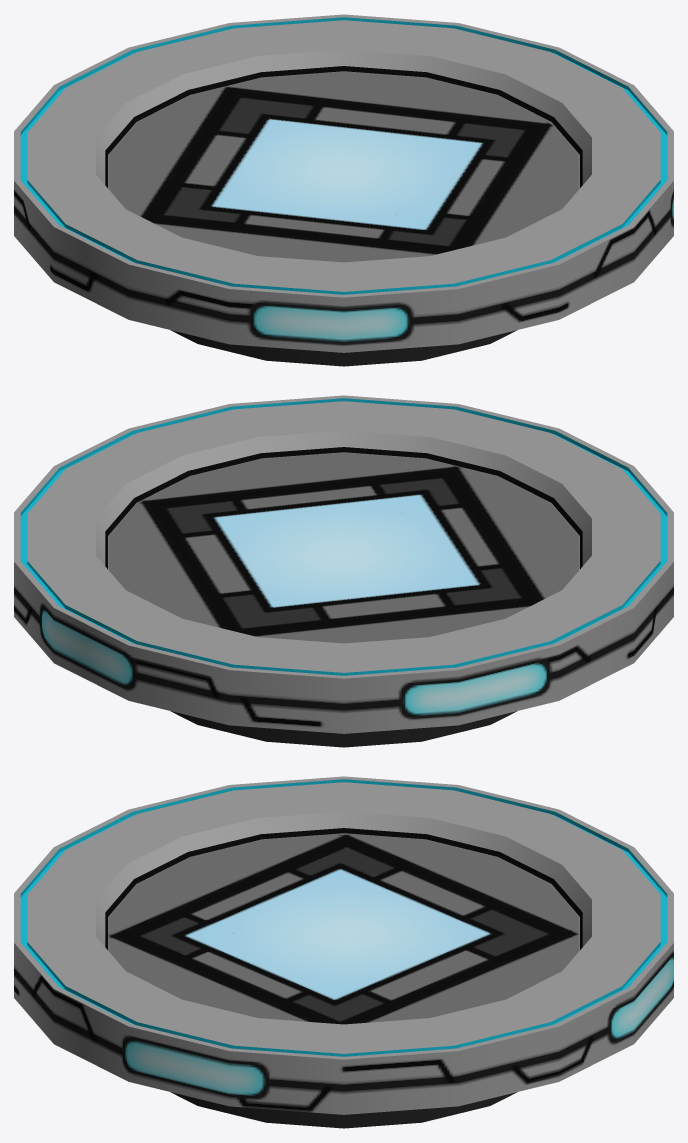
File: scaffold.fbx
3 views of the same model, one above another, from view 1: azimuth 30°, elevation 25°; view 2: azimuth 150°, elevation 25°; view 3: azimuth 270°, elevation 25° (orthographic).
Visible parts, largest first — view 1: Foundation, FoundationUnder; view 2: Foundation, FoundationUnder; view 3: Foundation, FoundationUnder.
Part boxes in pixels (left/top/right/bottom): Foundation: left=14, top=14, right=673, bottom=352; FoundationUnder: left=170, top=330, right=517, bottom=366; Foundation: left=14, top=395, right=673, bottom=733; FoundationUnder: left=170, top=711, right=517, bottom=747; Foundation: left=14, top=776, right=673, bottom=1114; FoundationUnder: left=170, top=1092, right=517, bottom=1128.
Size of the model in its own units: 11.75 by 3.13 by 11.58.
Materials: 2 (1 with a texture image).
